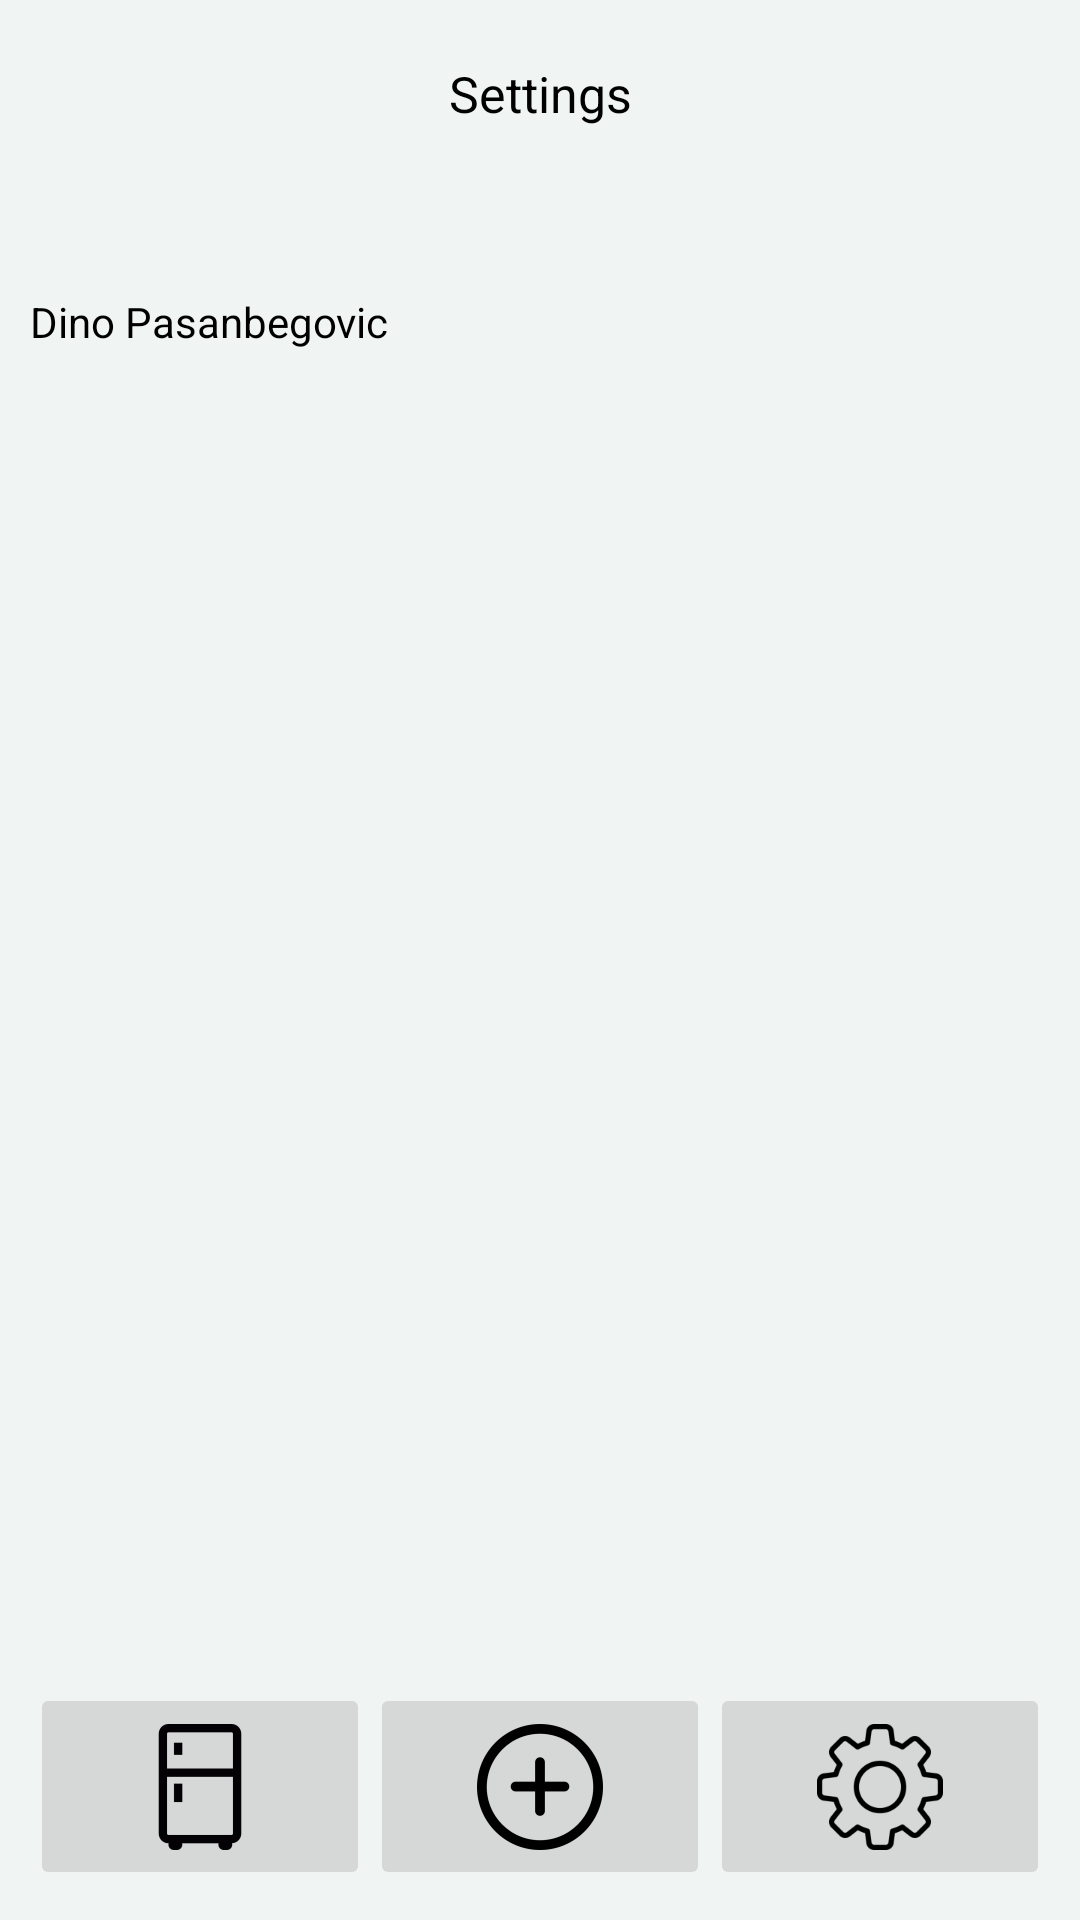

Icon bounding boxes for this 1080×1920 phone screenshot, format [x1,y1,x2,y2]:
add: [382,1701,698,1872]
fridge: [42,1701,358,1872]
settings: [722,1701,1038,1872]
